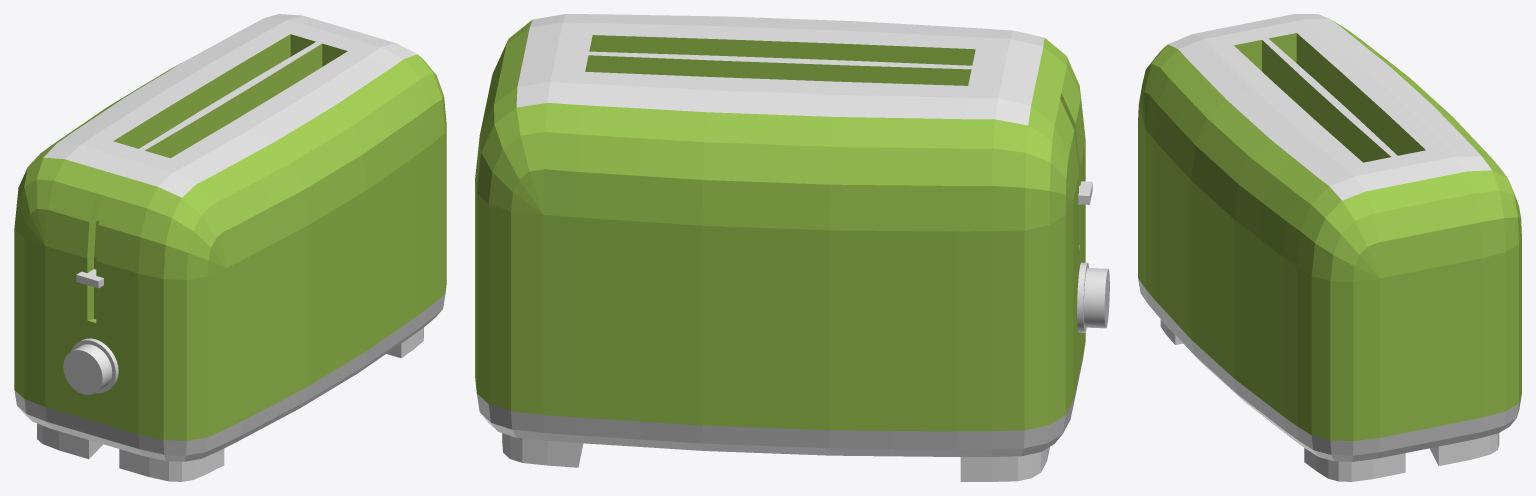
3 renders of one model, left to right at view 1: azimuth 30°, elevation 25°; view 2: azimuth 150°, elevation 25°; view 3: azimuth 270°, elevation 25°, orthographic. The views are drawn at different scales.
Visible parts, largest first — view 1: Box003; view 2: Box003; view 3: Box003.
Boxes of the visible parts, <box> form: Box003: <box>14,14,446,481</box>; Box003: <box>475,14,1109,481</box>; Box003: <box>1138,14,1521,481</box>.
Size of the model in its own units: 1.57 by 1 by 1.21.
